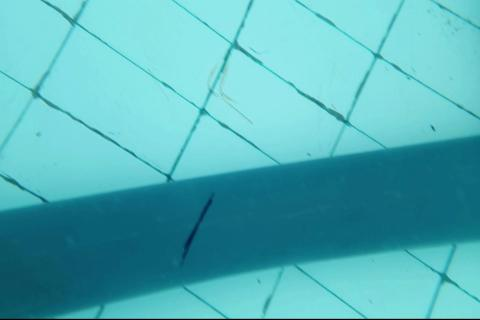keretakan: (177, 191, 216, 266)
